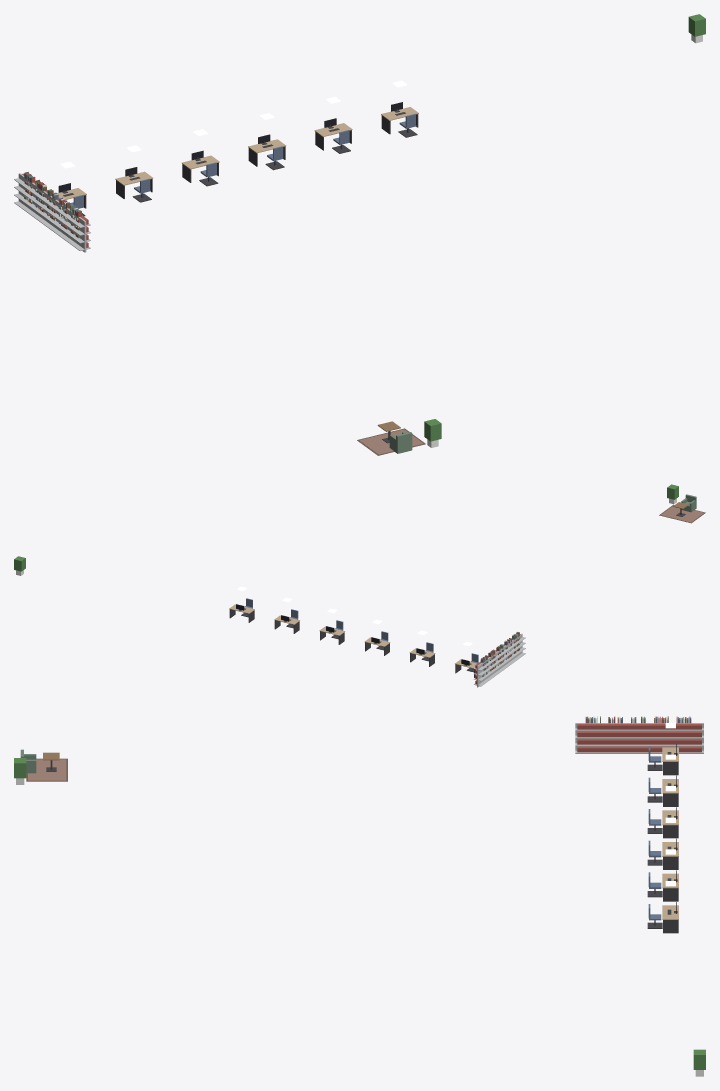
File: fine-s5.glb
3 renders of one model, top to bottom at view 1: azimuth 30°, elevation 25°; view 2: azimuth 150°, elevation 25°; view 3: azimuth 270°, elevation 25°, orthographic. The views are drawn at different scales.
Parts seen in each view (by area): view 1: soft-s5, shelving.025; view 2: soft-s5, shelving.021; view 3: soft-s5, shelving.021, shelving.025, shelving.023, shelving.024, shelving.022.
Part boxes in pixels (x1,y1,x2,y2): soft-s5: [24, 171, 425, 455]; shelving.025: [61, 208, 90, 252]; soft-s5: [480, 504, 705, 676]; shelving.021: [473, 657, 493, 687]; soft-s5: [26, 716, 691, 781]; shelving.021: [666, 723, 703, 753]; shelving.025: [575, 723, 612, 753]; shelving.023: [621, 723, 658, 753]; shelving.024: [598, 723, 635, 753]; shelving.022: [643, 723, 680, 753].
Size of the model in its own units: 37.22 by 2.3 by 33.33.
